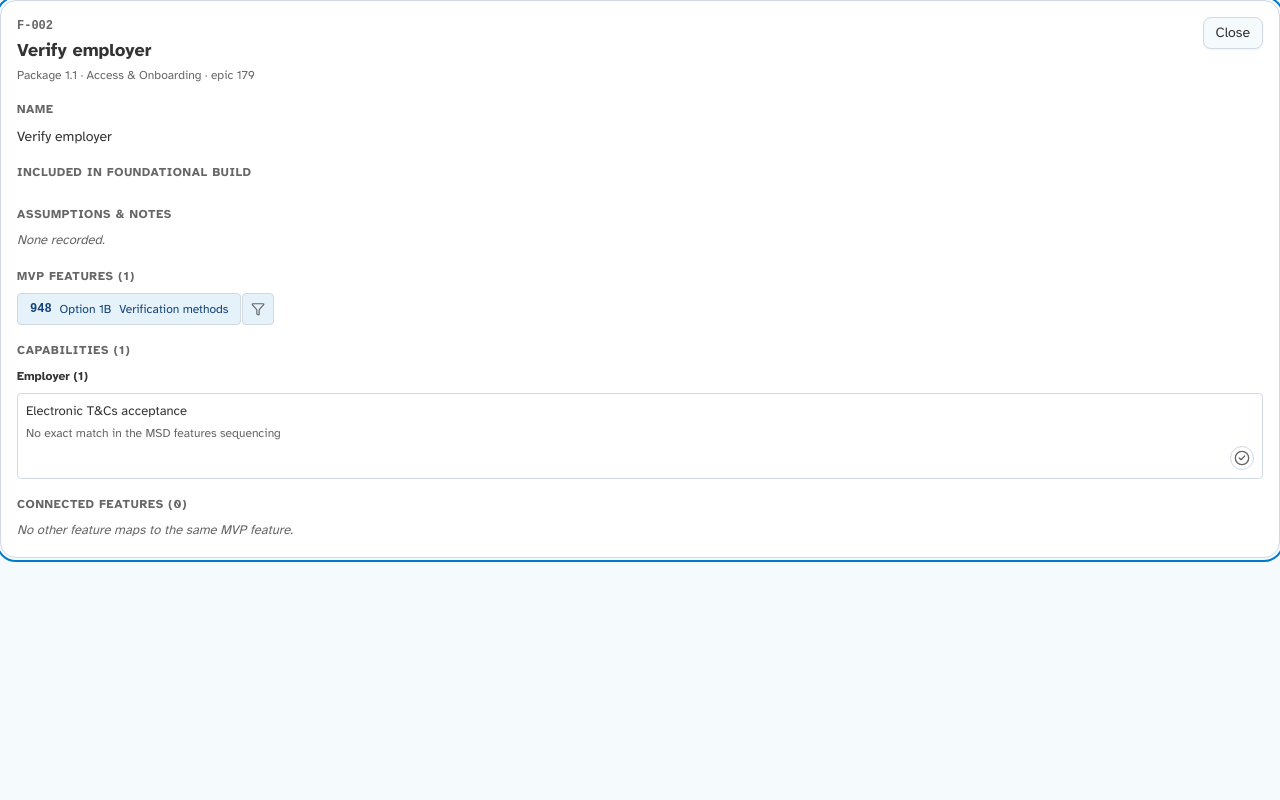
FeatureDetailPanel — a reviewed capability collapses (R-8.23) › reopens the full decision from that control
Click the button named "Reviewed:" at (1242, 458), box [1230, 446, 1254, 470]
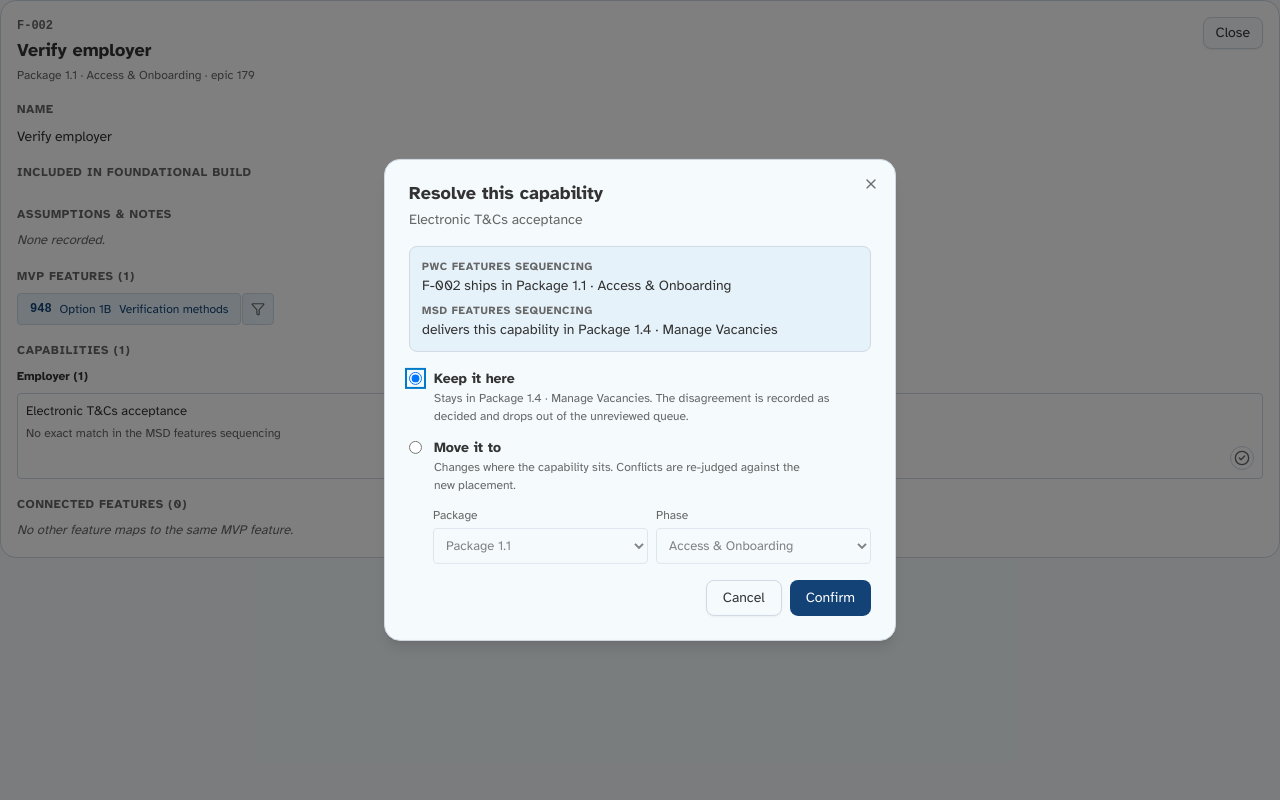
Expected: the text "F-002 ships in Package 1.1 · Access & Onboarding" is shown, [422, 276, 731, 293]
Expected: the text "delivers this capability in Package 1.4 · Manage Vacancies" is shown, [422, 320, 778, 338]
